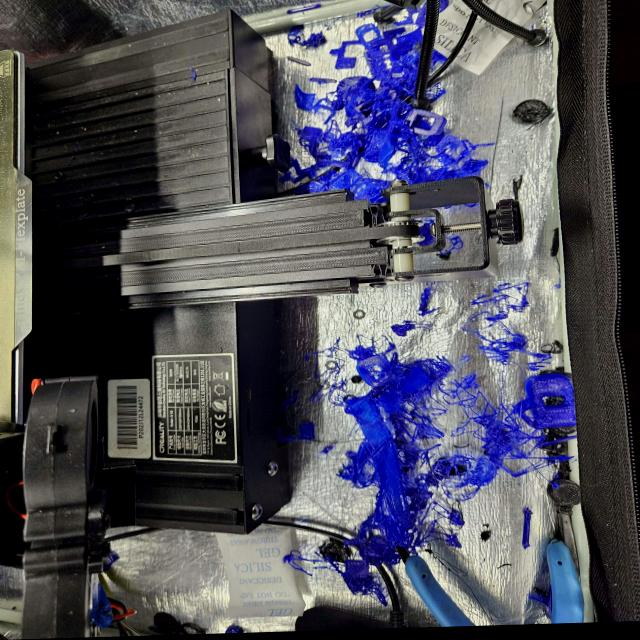spaghetti: (267, 288, 604, 594), (266, 21, 497, 195)
